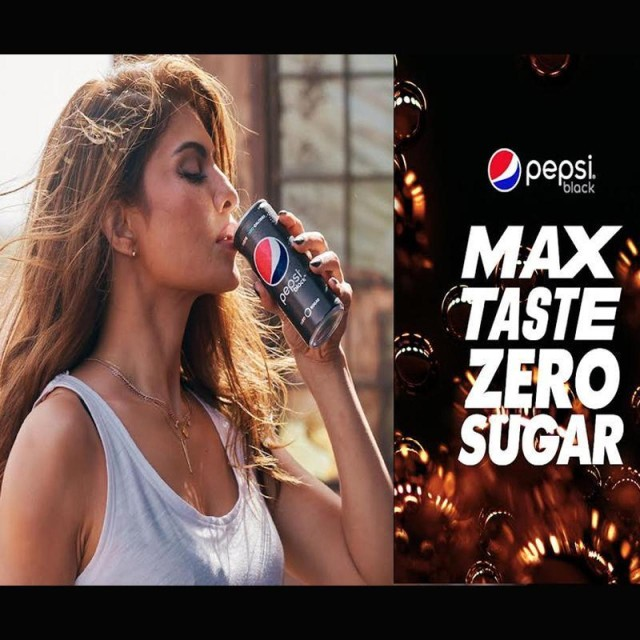pepsi: (254, 238, 290, 286), (488, 146, 522, 194)
